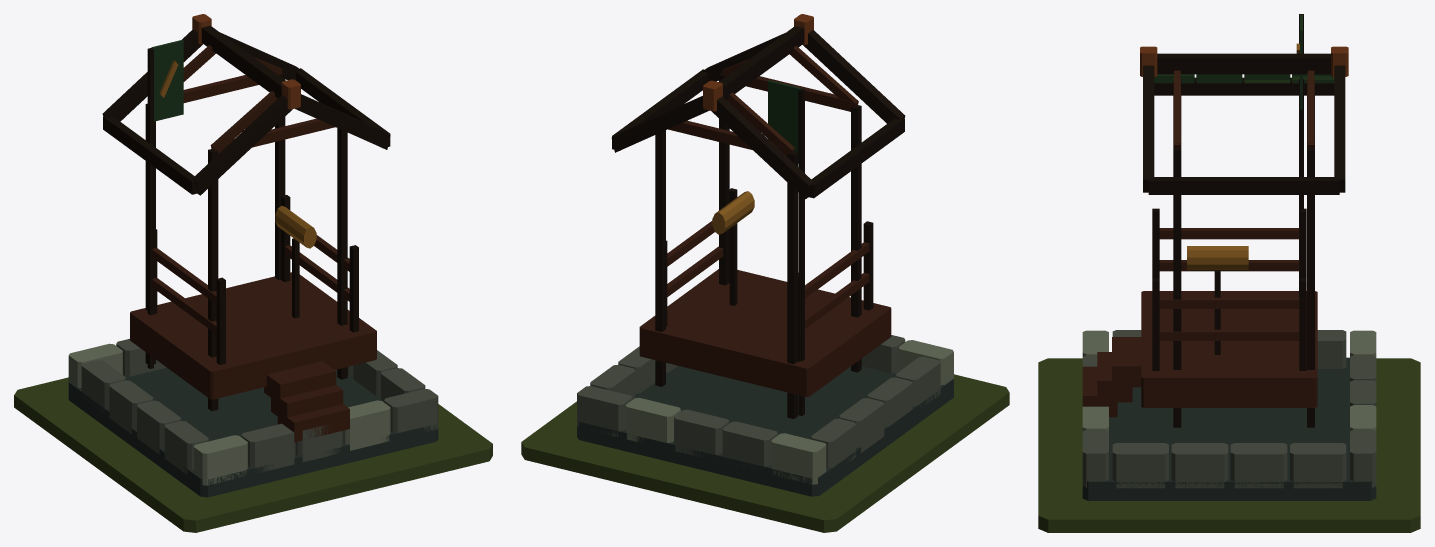
File: scout_post_t3.glb
3 renders of one model, left to right at view 1: azimuth 30°, elevation 25°; view 2: azimuth 150°, elevation 25°; view 3: azimuth 270°, elevation 25°, orthographic. The views are drawn at different scales.
Visible parts, largest first — view 1: MMR | scout_post | T03 Architecture.001, MMR | scout_post | Tier 03 Ground.001; view 2: MMR | scout_post | T03 Architecture.001, MMR | scout_post | Tier 03 Ground.001; view 3: MMR | scout_post | T03 Architecture.001, MMR | scout_post | Tier 03 Ground.001.
Part boxes in pixels (x1,y1,x2,y2): MMR | scout_post | T03 Architecture.001: [68, 14, 438, 497]; MMR | scout_post | Tier 03 Ground.001: [14, 377, 492, 532]; MMR | scout_post | T03 Architecture.001: [577, 14, 953, 496]; MMR | scout_post | Tier 03 Ground.001: [521, 374, 1009, 532]; MMR | scout_post | T03 Architecture.001: [1082, 14, 1376, 500]; MMR | scout_post | Tier 03 Ground.001: [1038, 358, 1420, 532].
Size of the model in its own units: 1.3 by 1.51 by 1.3.
1 material, 1 textured.
